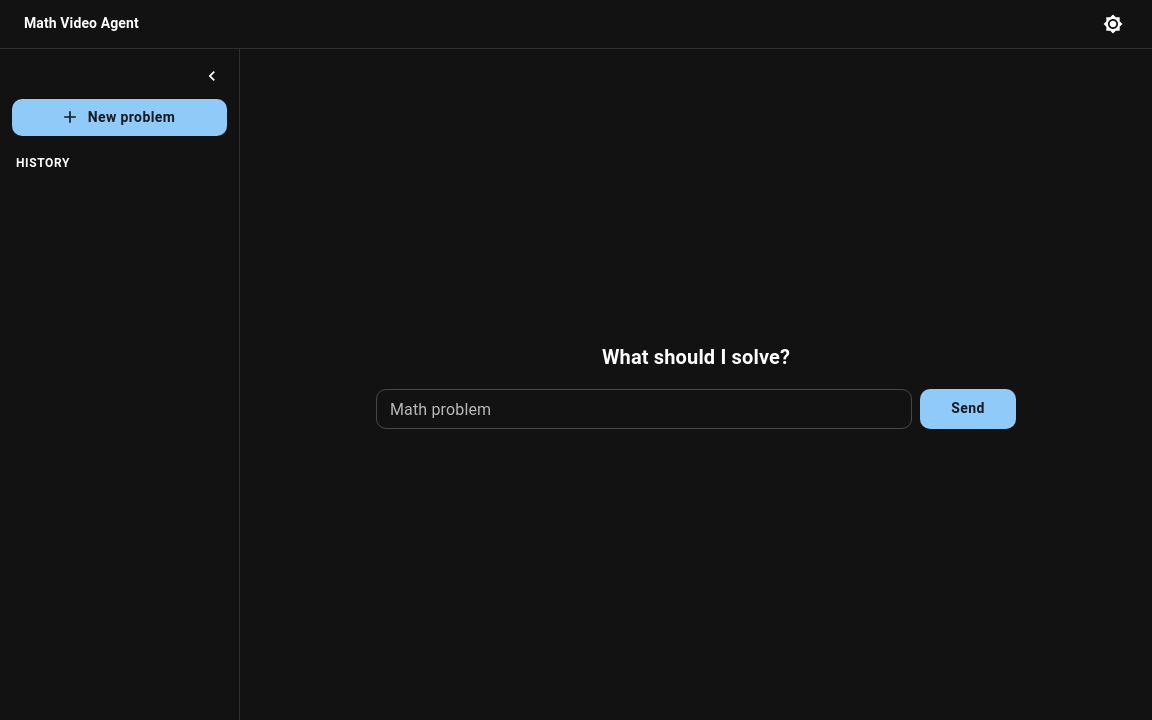
it: AppShell › submitting a problem adds it to the sidebar history
Type "Solve x^2 - 4 = 0" into the field labelled "Math problem".
click(644, 408); type("Solve x^2 - 4 = 0")  # box [376,388,912,428]
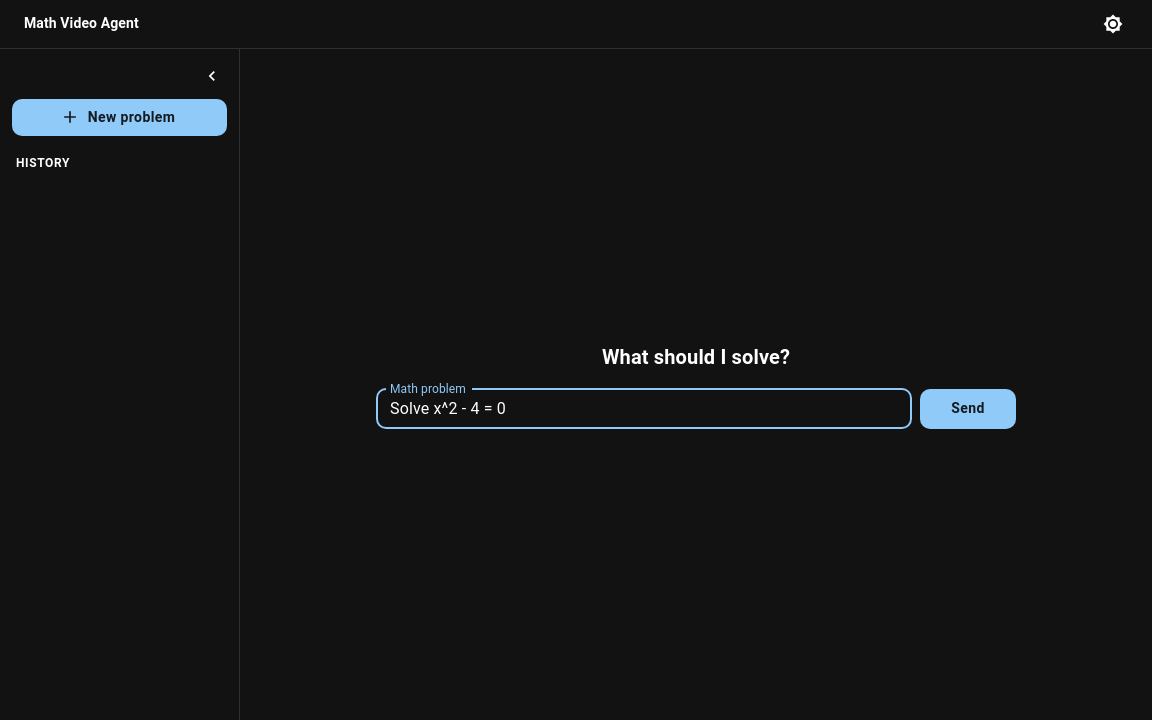
Click the button "Send".
click(968, 408)  # box [920,388,1016,428]
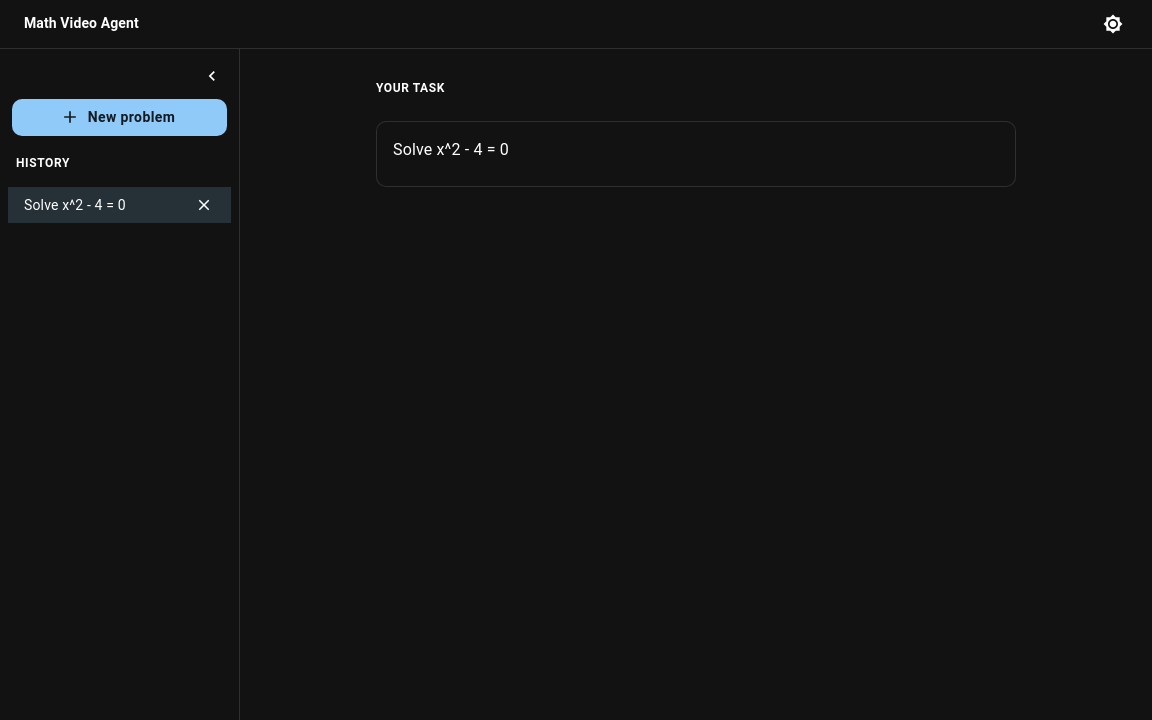
Check: the button with test id "history-entry-abc" is shown, box [8,187,231,223]
